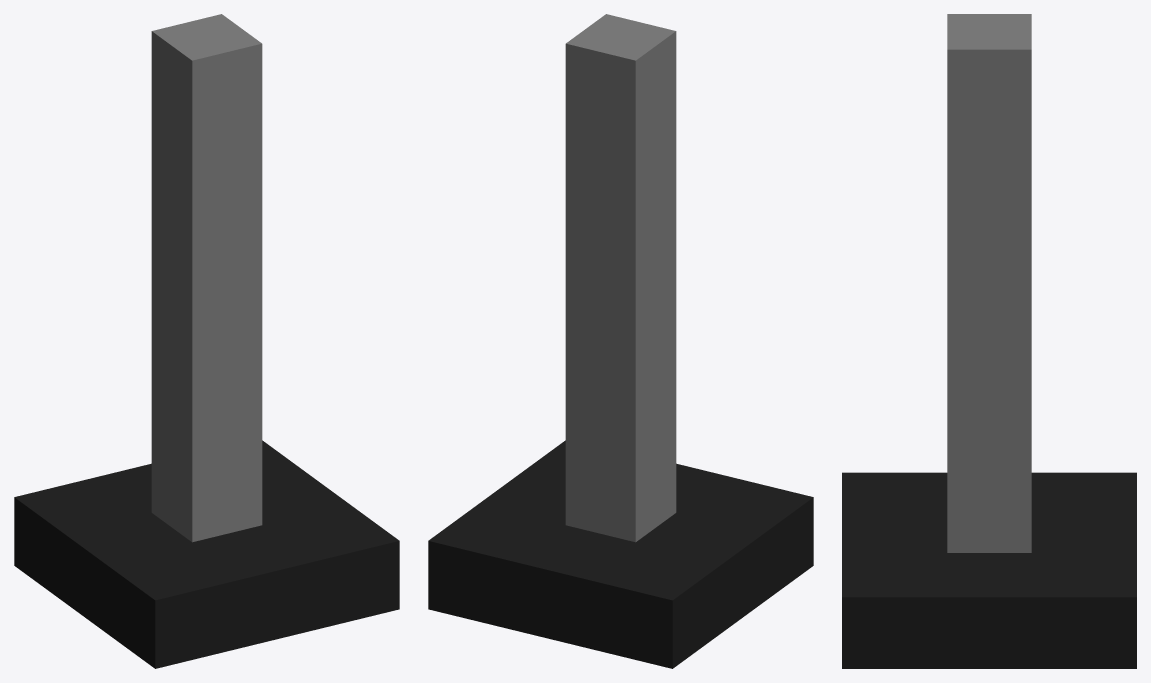
The model's file is AccessPoint_Body.fbx.
3 renders of one model, left to right at view 1: azimuth 30°, elevation 25°; view 2: azimuth 150°, elevation 25°; view 3: azimuth 270°, elevation 25°, orthographic. The views are drawn at different scales.
Visible parts, largest first — view 1: APBody; view 2: APBody; view 3: APBody.
Boxes of the visible parts, x1=… form: APBody: x1=14, y1=14, x2=399, y2=668; APBody: x1=428, y1=14, x2=813, y2=668; APBody: x1=842, y1=14, x2=1136, y2=668.
Size of the model in its own units: 0.215 by 0.4625 by 0.215.
